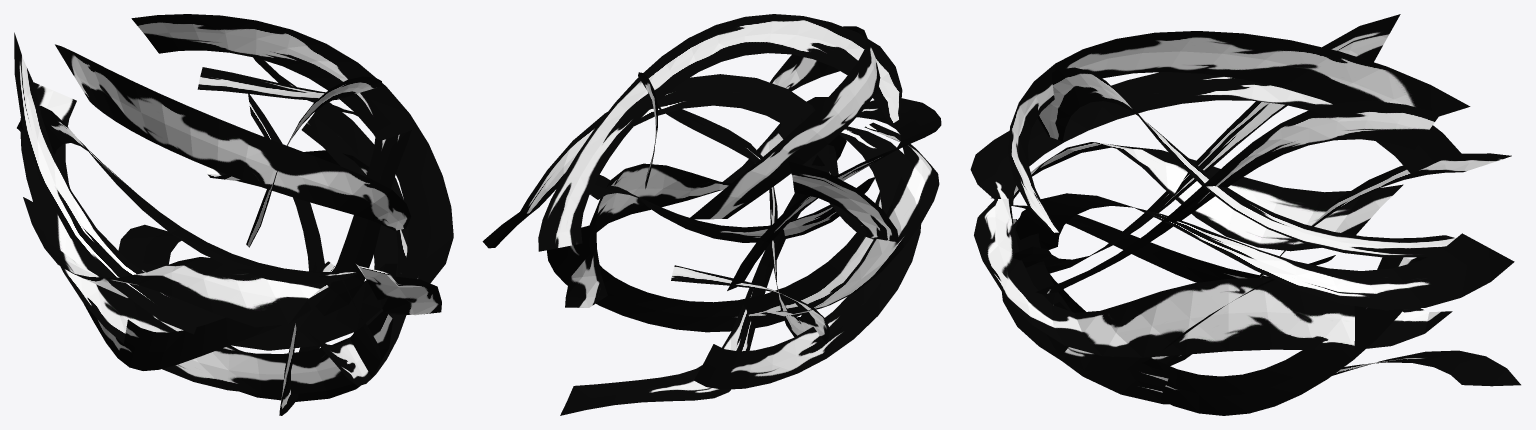
Rendered from FireBall_FlySmoke.fbx.
The picture shows the model from 3 angles, left to right: view 1: azimuth 30°, elevation 25°; view 2: azimuth 150°, elevation 25°; view 3: azimuth 270°, elevation 25°; orthographic projection. The views are drawn at different scales.
Visible parts, largest first — view 1: SM_EFF_Fireball_D_01.mo; view 2: SM_EFF_Fireball_D_01.mo; view 3: SM_EFF_Fireball_D_01.mo.
Part boxes in pixels (x1,y1,x2,y2): SM_EFF_Fireball_D_01.mo: [14, 14, 453, 415]; SM_EFF_Fireball_D_01.mo: [482, 14, 941, 415]; SM_EFF_Fireball_D_01.mo: [970, 14, 1520, 415].
Size of the model in its own units: 420 by 381 by 568.
